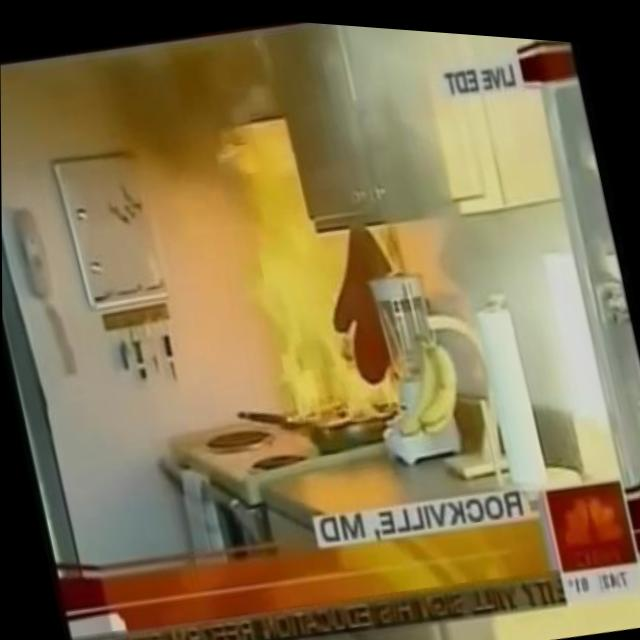fire: (212, 88, 434, 433)
